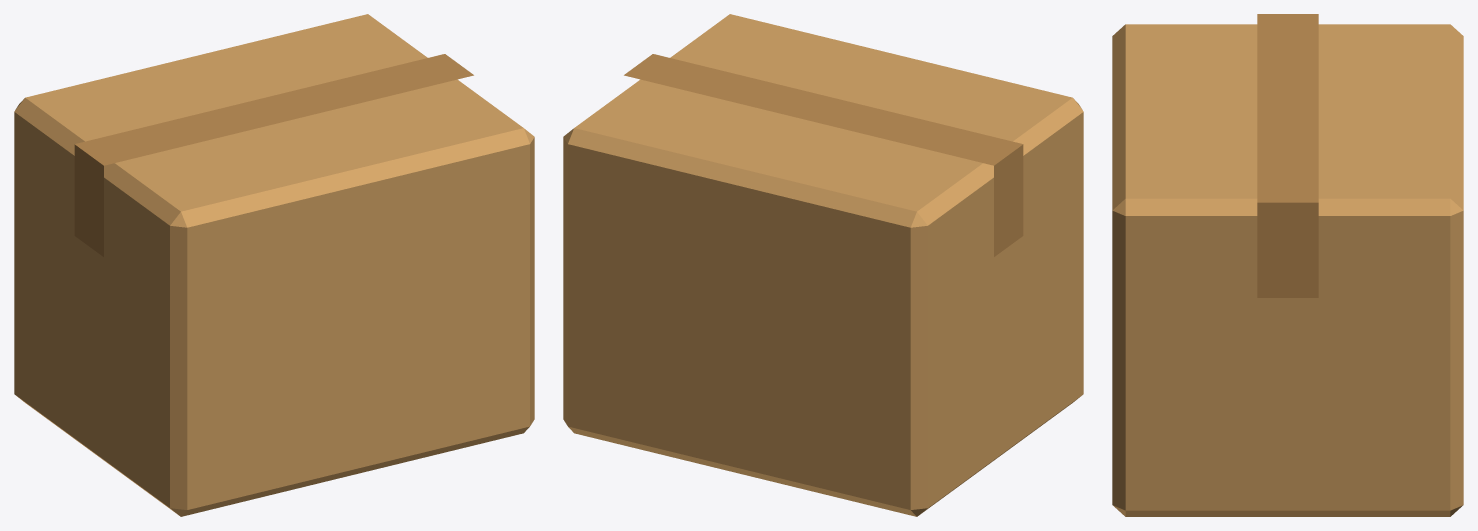
Rendered from box_single.glb.
3 views of the same model, side by side, from view 1: azimuth 30°, elevation 25°; view 2: azimuth 150°, elevation 25°; view 3: azimuth 270°, elevation 25° (orthographic). The views are drawn at different scales.
Parts seen in each view (by area): view 1: BoxSingle; view 2: BoxSingle; view 3: BoxSingle.
Boxes of the visible parts, left/top/right/bottom form: BoxSingle: left=14, top=14, right=534, bottom=516; BoxSingle: left=563, top=14, right=1083, bottom=516; BoxSingle: left=1112, top=14, right=1463, bottom=516.
Size of the model in its own units: 0.508 by 0.404 by 0.4.
